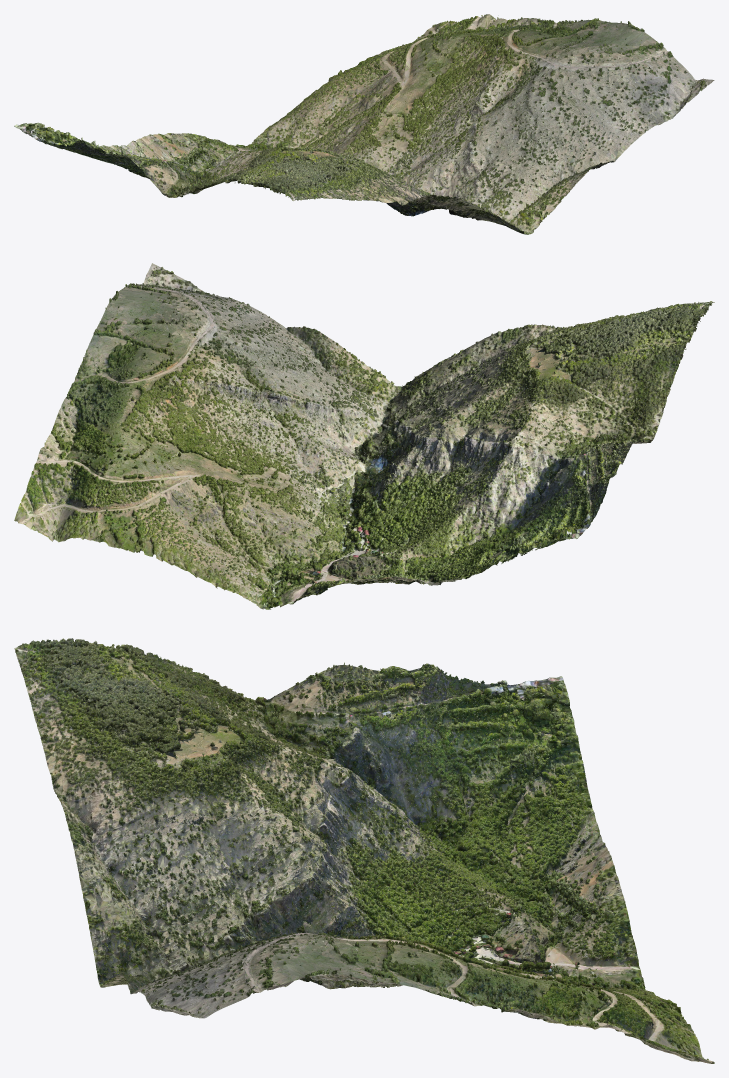
Rendered from medium.glb.
3 renders of one model, top to bottom at view 1: azimuth 30°, elevation 25°; view 2: azimuth 150°, elevation 25°; view 3: azimuth 270°, elevation 25°, orthographic. The views are drawn at different scales.
Parts seen in each view (by area): view 1: tomara; view 2: tomara; view 3: tomara.
Boxes of the visible parts, x1,y1,x2,y2 form: tomara: [14, 14, 714, 234]; tomara: [14, 263, 714, 609]; tomara: [14, 638, 714, 1063].
Bounding box in the file's own units: 1217 × 358 × 1003.
10 materials, 10 textured.
